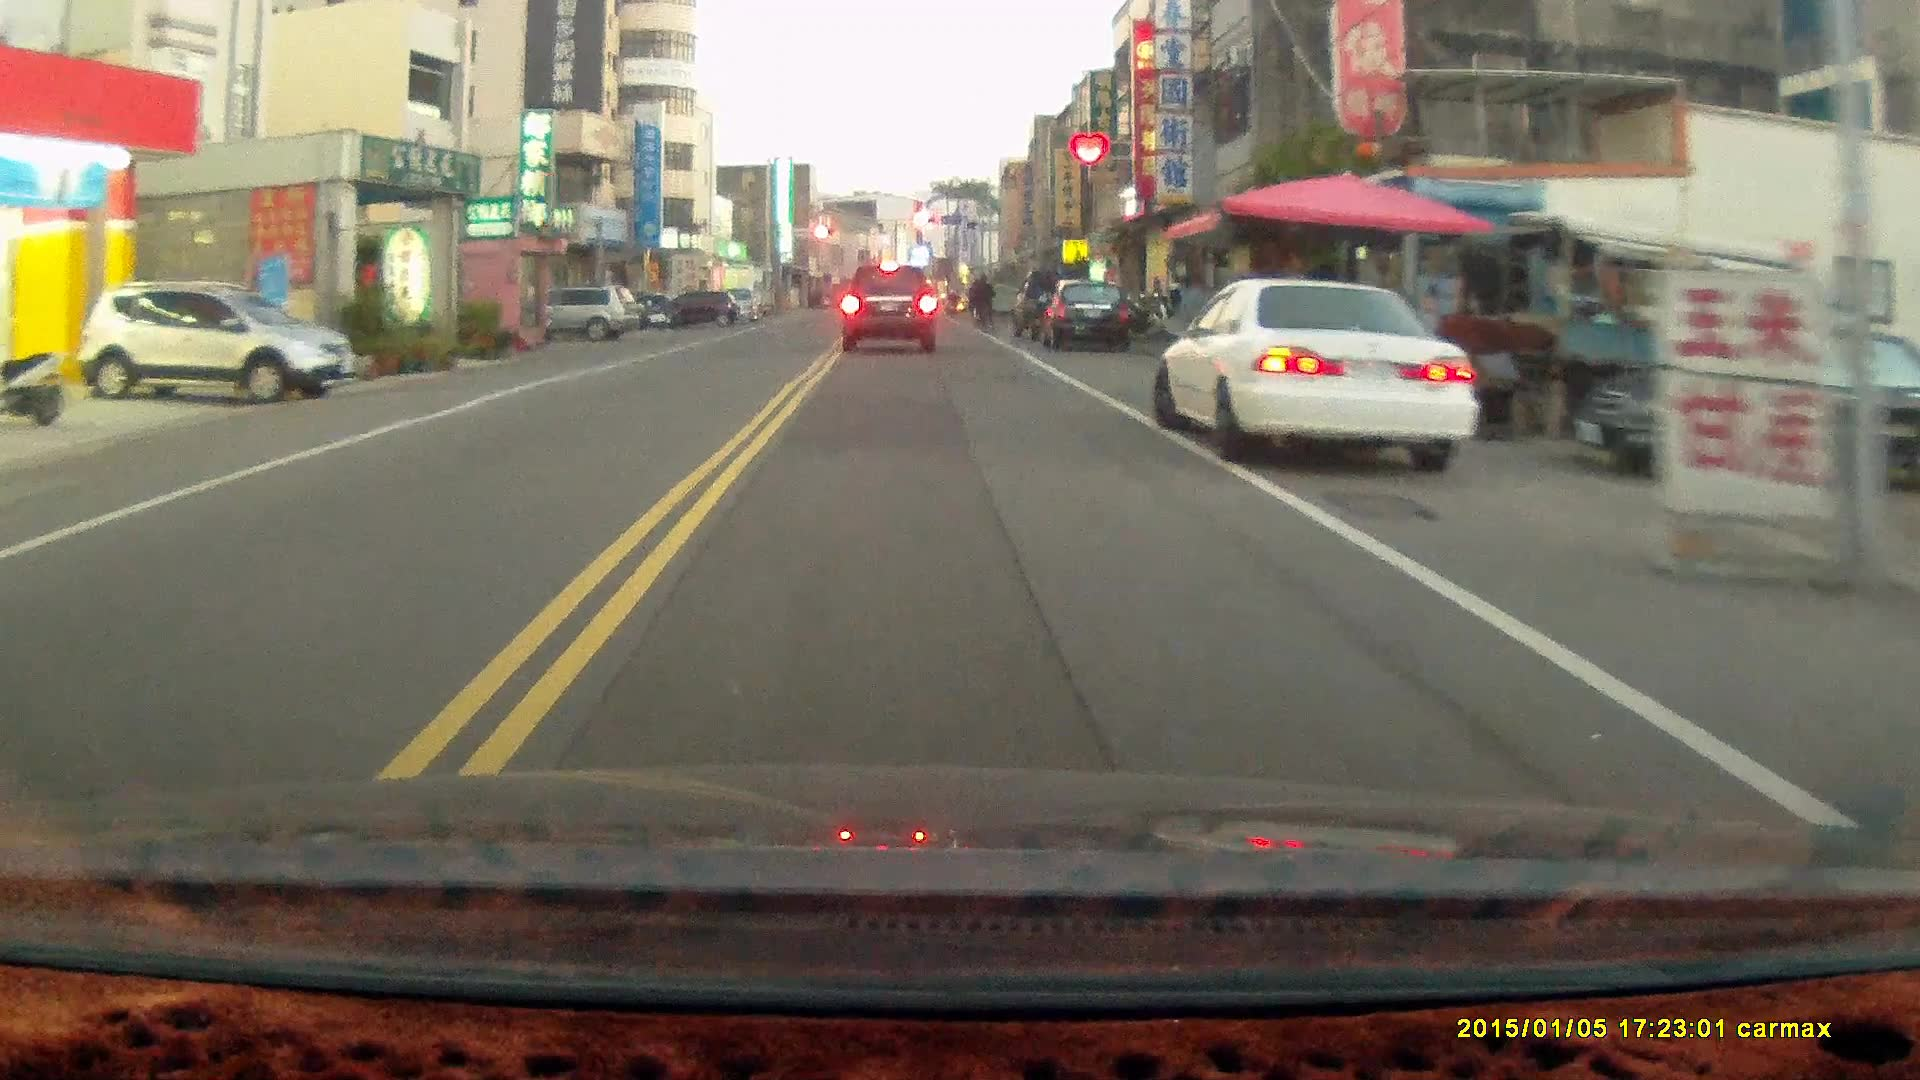rider: (969, 275, 995, 333)
vehicle: (1156, 278, 1478, 471), (1559, 324, 1920, 485), (78, 285, 343, 414), (840, 261, 941, 358), (1043, 283, 1139, 353), (543, 288, 640, 342)
